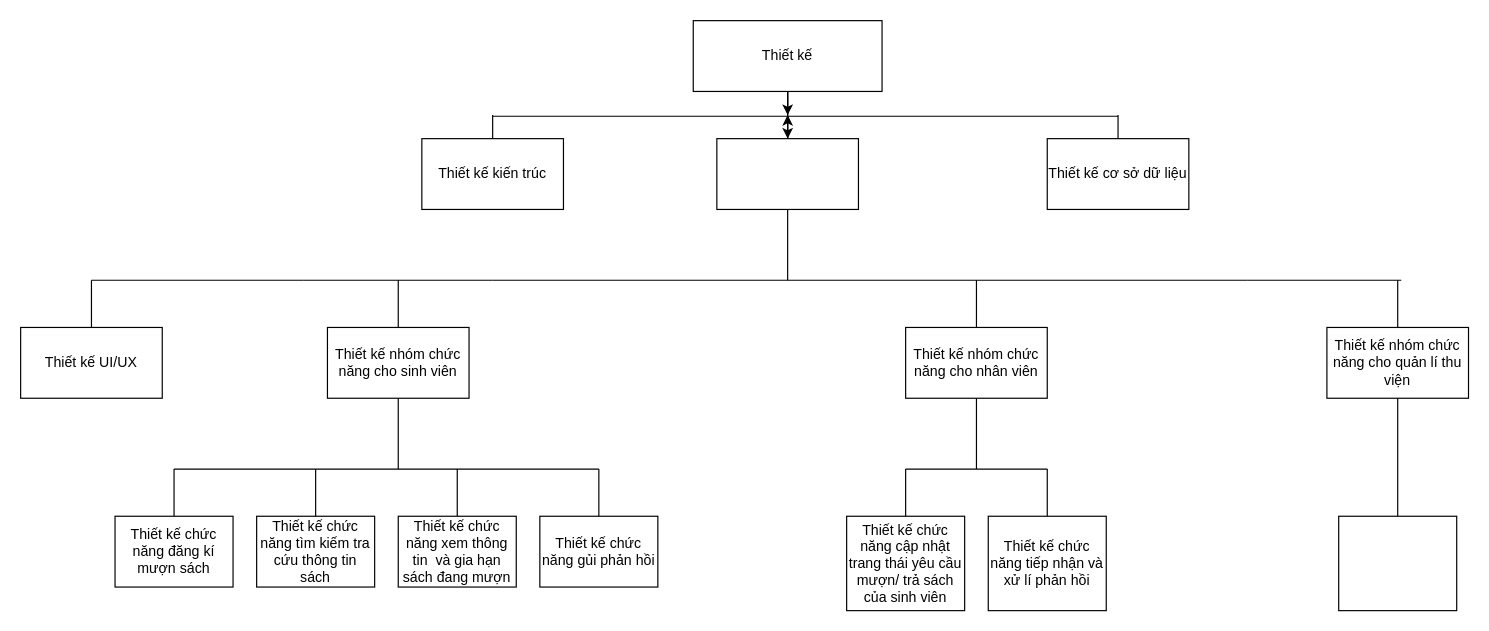
Some shapes in this 1489 by 631 pixel diagram are drawn without their labels. The shapes that lost their labels are listed below. From the top down, each one's box as (x1, y1, x2, y2) in pixels, then its label:
(716, 137, 858, 209): Thiết kế chi tiết
(1338, 515, 1457, 611): Thiết kế chức năng thống kê danh sách sinh viện quá hạn mượn sách
